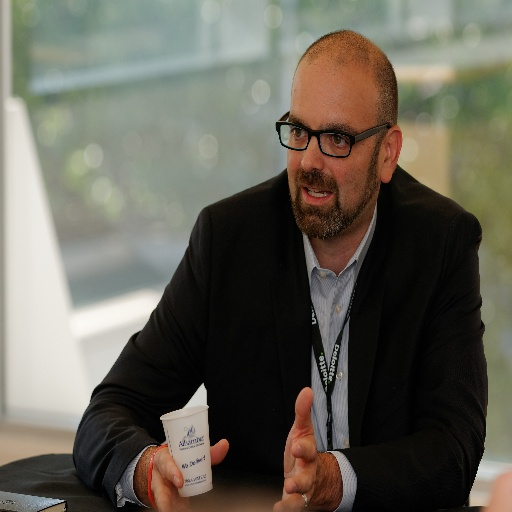hand: (279, 394, 354, 501), (148, 437, 229, 511)
